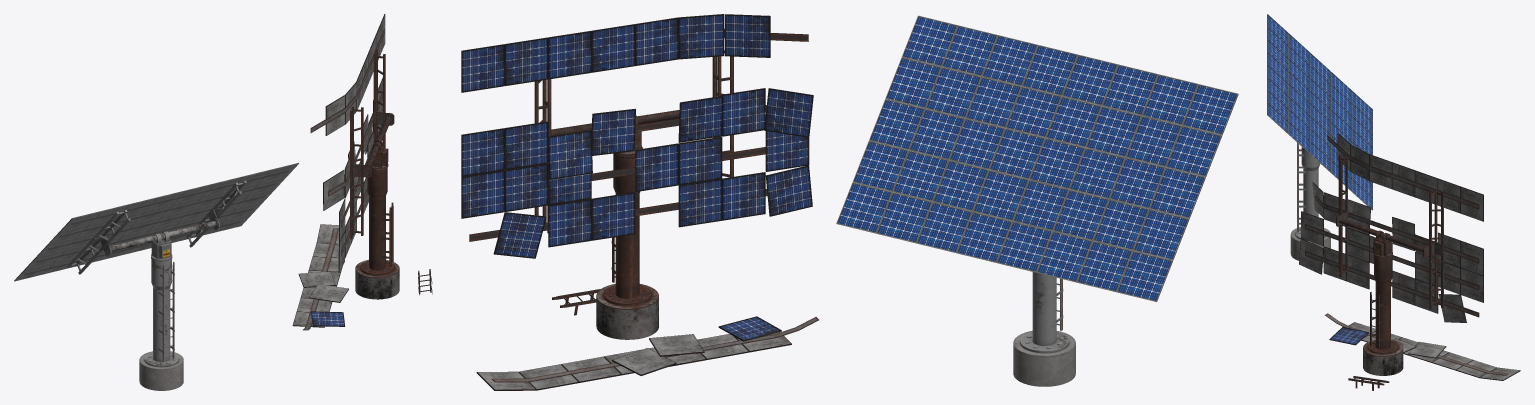
File: large_solar_panel_array.glb
3 views of the same model, side by side, from view 1: azimuth 30°, elevation 25°; view 2: azimuth 150°, elevation 25°; view 3: azimuth 270°, elevation 25° (orthographic). The views are drawn at different scales.
Visible parts, largest first — view 1: LargeSolarPanelArrayDamaged, SolarPanelArray, FoundationElement, Ladders, Rotator; view 2: SolarPanelArray, LargeSolarPanelArrayDamaged, FoundationElement; view 3: LargeSolarPanelArrayDamaged, SolarPanelArray, FoundationElement, Ladders.
Boxes of the visible parts, x1,y1,x2,y2 form: LargeSolarPanelArrayDamaged: (292,14,432,330); SolarPanelArray: (14,163,298,281); FoundationElement: (139,259,183,390); Ladders: (158,261,174,361); Rotator: (151,231,172,262); SolarPanelArray: (836,15,1238,301); LargeSolarPanelArrayDamaged: (461,14,818,390); FoundationElement: (1013,272,1075,386); LargeSolarPanelArrayDamaged: (1299,133,1520,390); SolarPanelArray: (1267,14,1372,210); FoundationElement: (1290,147,1330,260); Ladders: (1297,142,1305,231).
Size of the model in its own units: 15.13 by 7.55 by 8.47.
Materials: 2 (2 with a texture image).
